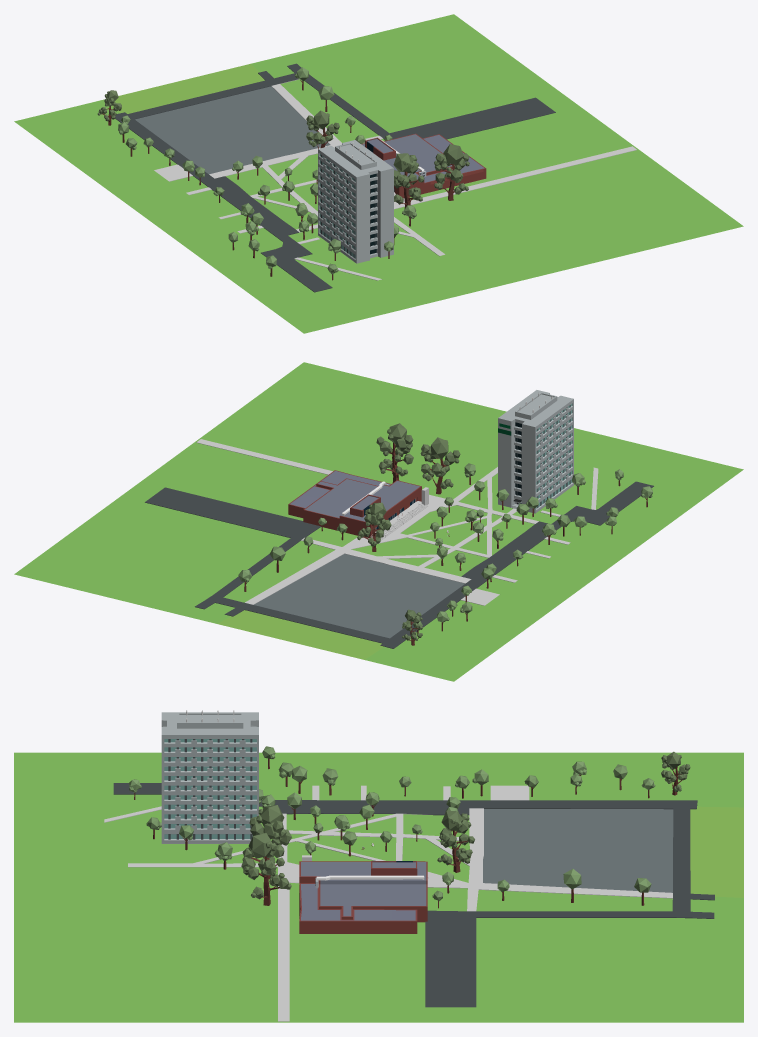
The model's file is MS_AGH.fbx.
3 renders of one model, top to bottom at view 1: azimuth 30°, elevation 25°; view 2: azimuth 150°, elevation 25°; view 3: azimuth 270°, elevation 25°, orthographic. The views are drawn at different scales.
Visible parts, largest first — view 1: Grass, RoadLayout, Cube, Cube.003, Cube.011, Cube.009, Cube.019; view 2: Grass, RoadLayout, Cube, Cube.003, Cube.011, Cube.009, Cube.019; view 3: Grass, RoadLayout, Cube, Cube.003, Cube.011, Cube.019, Cube.009, Cube.017, Cube.016.
Part boxes in pixels (x1,y1,x2,y2): Grass: (14, 14, 743, 333); RoadLayout: (115, 63, 636, 292); Cube: (318, 140, 393, 263); Cube.003: (361, 133, 486, 198); Cube.011: (434, 144, 469, 200); Cube.009: (393, 153, 424, 208); Cube.019: (306, 110, 339, 148); Grass: (14, 362, 743, 681); RoadLayout: (145, 439, 653, 648); Cube: (498, 390, 573, 513); Cube.003: (288, 470, 421, 537); Cube.011: (376, 423, 413, 482); Cube.009: (420, 437, 460, 494); Cube.019: (357, 502, 391, 551); Grass: (14, 752, 743, 1022); RoadLayout: (104, 783, 714, 1021); Cube: (161, 712, 258, 843); Cube.003: (299, 861, 427, 933); Cube.011: (241, 833, 291, 905); Cube.019: (437, 810, 474, 872); Cube.009: (242, 805, 291, 879); Cube.017: (661, 751, 690, 795); Cube.016: (316, 875, 424, 886).
Size of the model in its own units: 24570 by 5259 by 28054.
